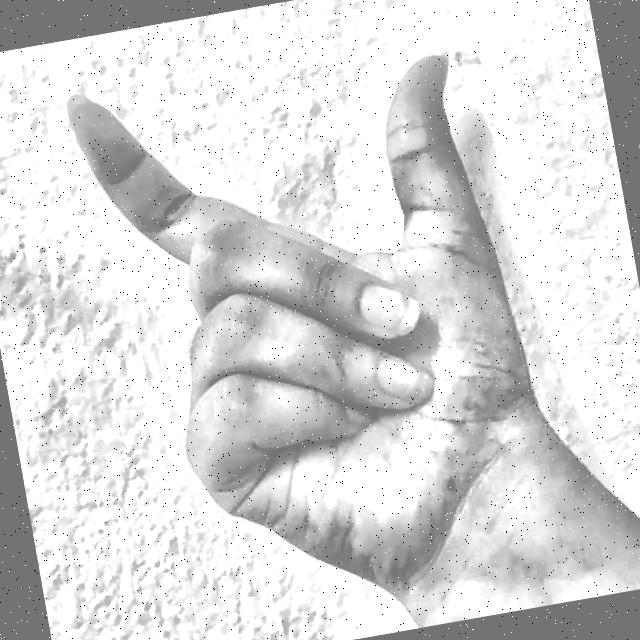ChandraBindu: (23, 0, 595, 640)
